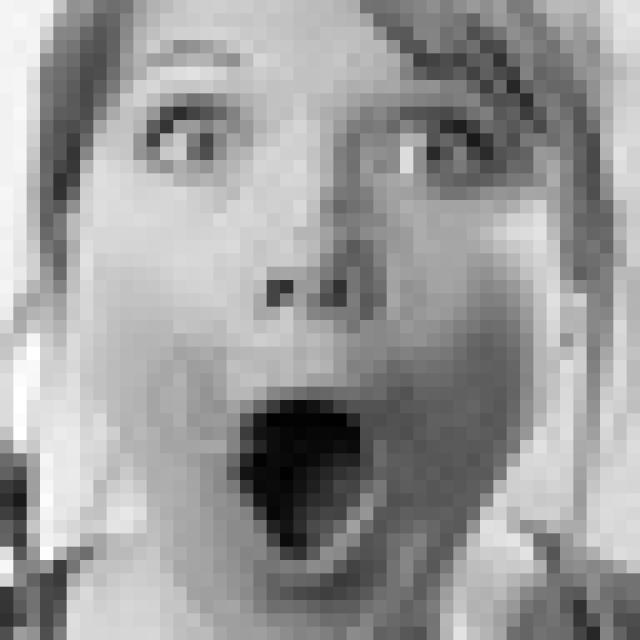surprise: (107, 38, 536, 600)
